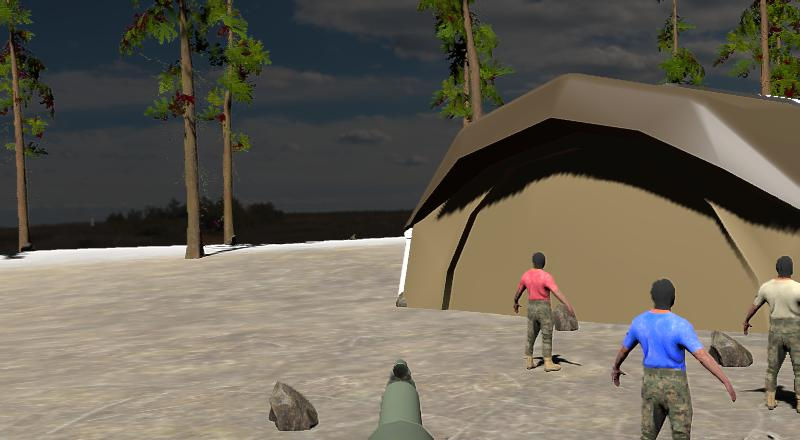Human: (608, 278, 738, 439), (738, 254, 800, 416), (511, 251, 579, 374)
